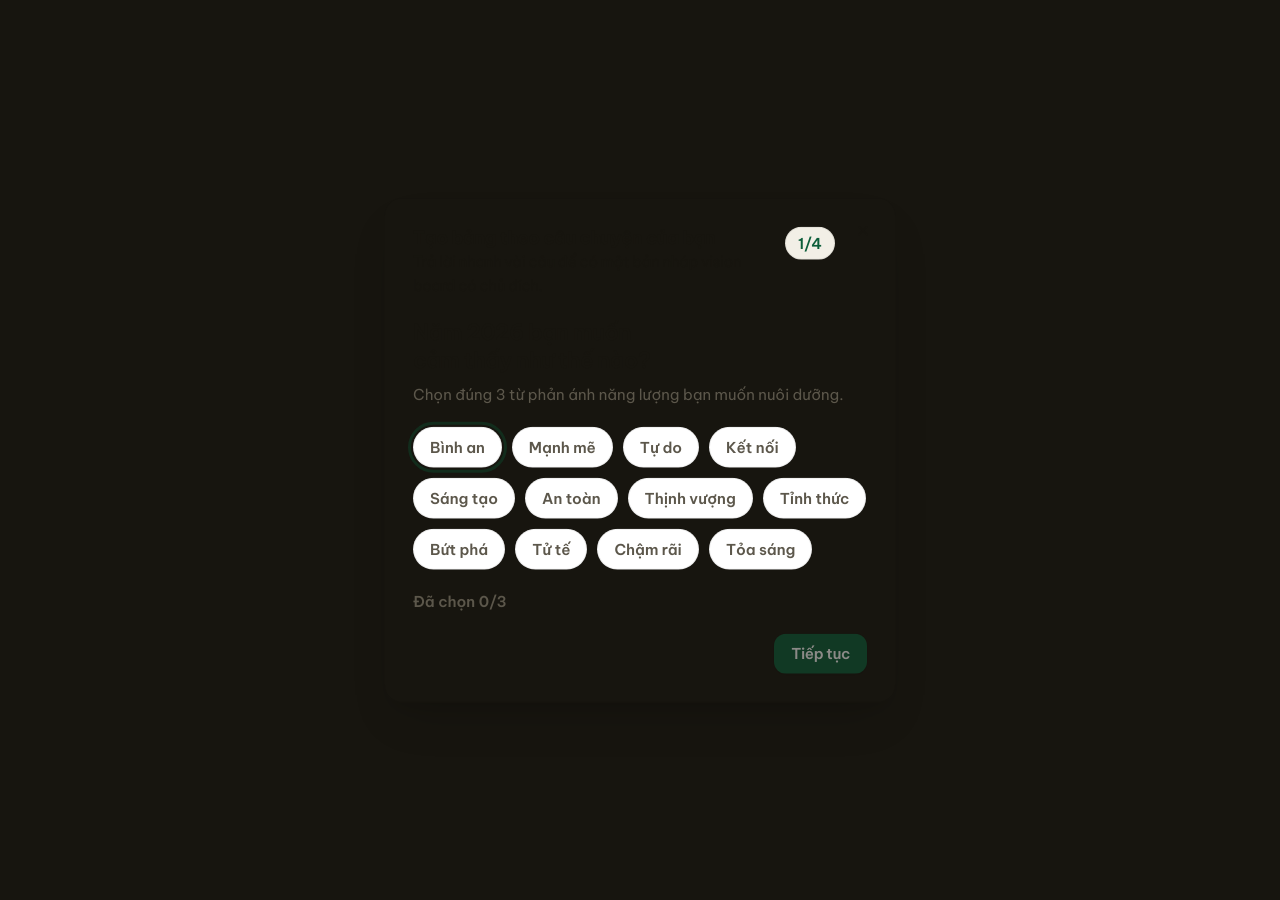
Test case: VisionBoardStoryWizard › starts at step 1 and enables continue only after three feelings
Expected: the text "1/4" is shown, [785,227,835,260]
Expected: the button "Tiếp tục" is disabled, [774,633,867,673]
Step 1. Click the button "Bình an" → (457, 447), box [413,426,502,468]
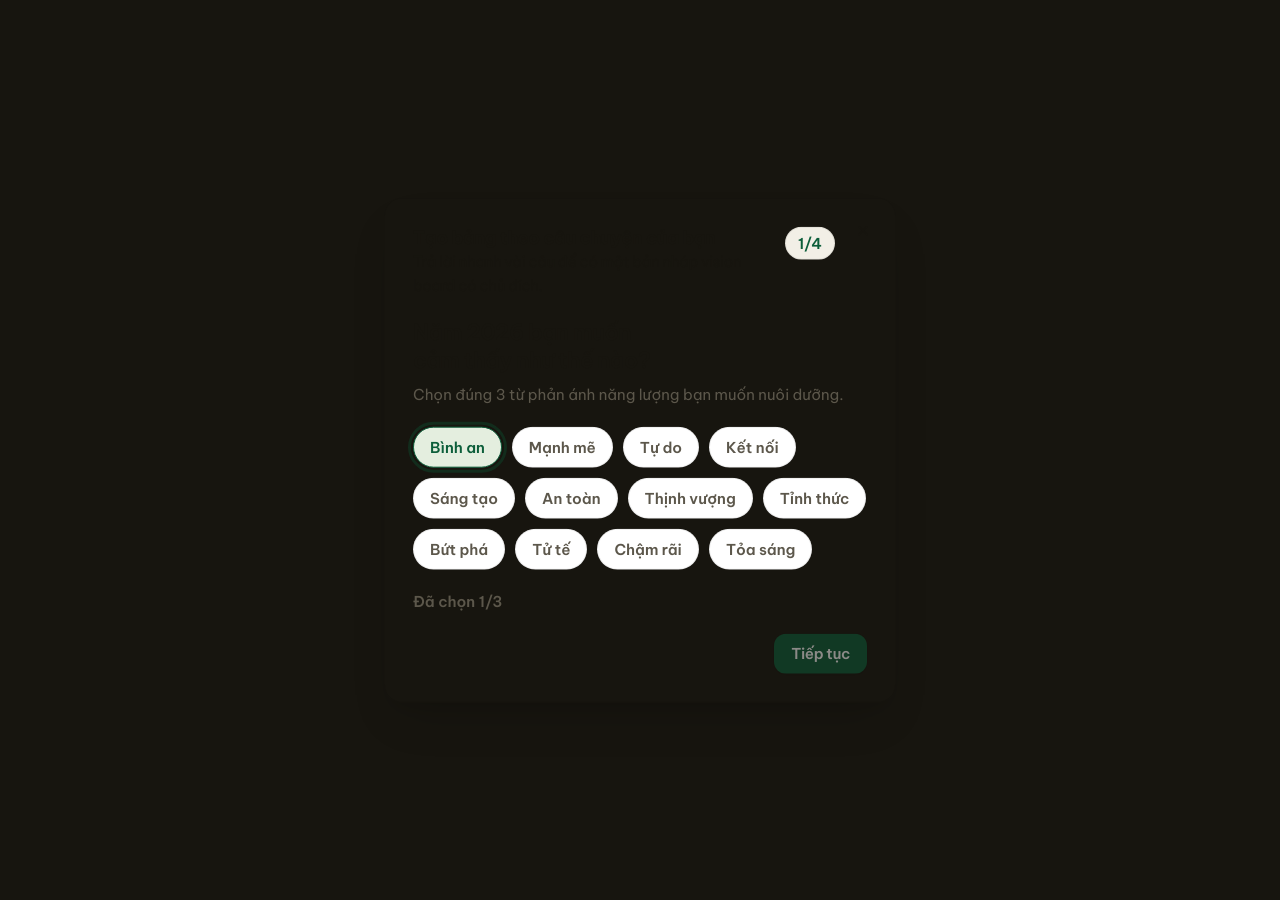
Step 2. Click the button "Mạnh mẽ" → (562, 447), box [512,426,613,468]
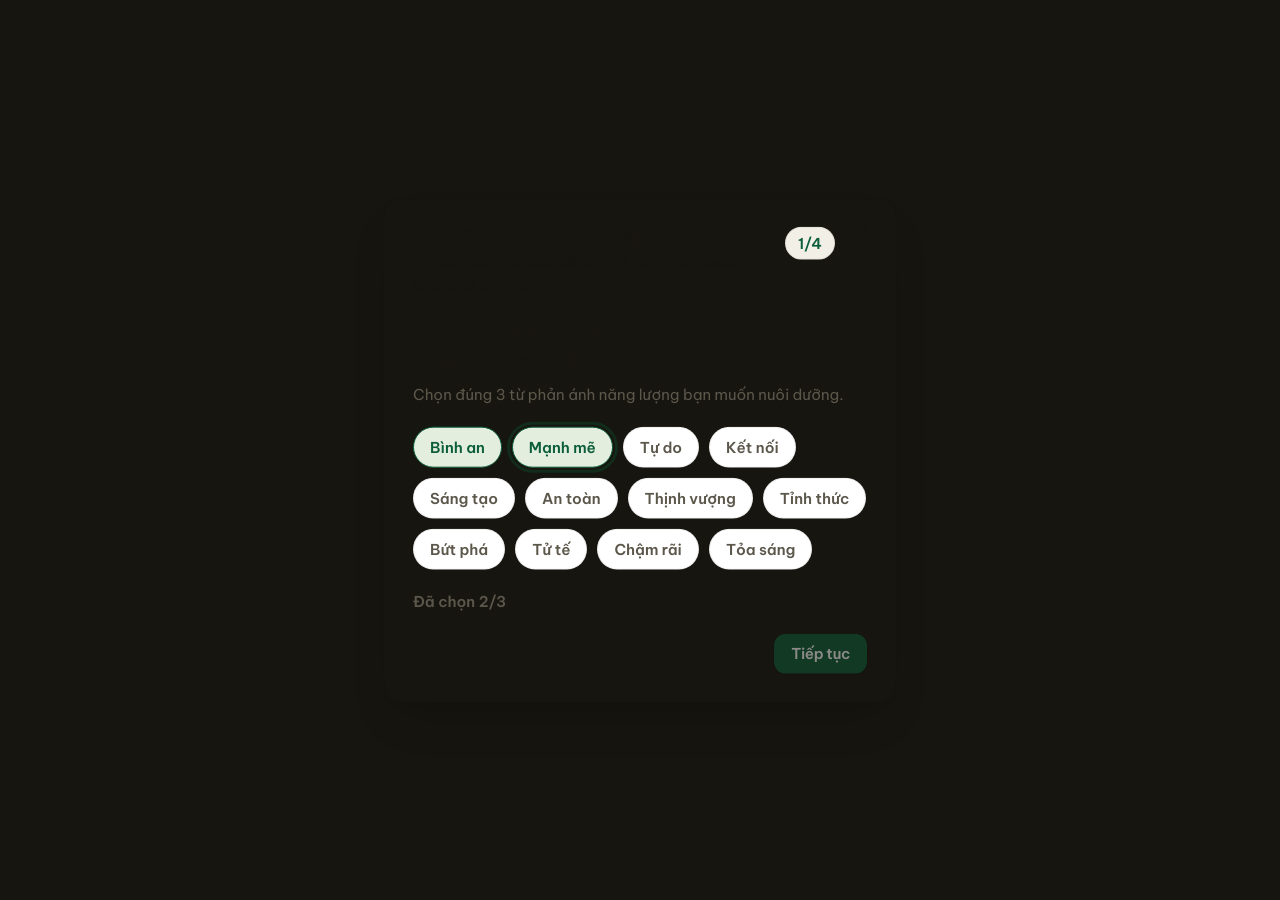
Step 3. Click the button "Tự do" → (661, 447), box [623,426,699,468]
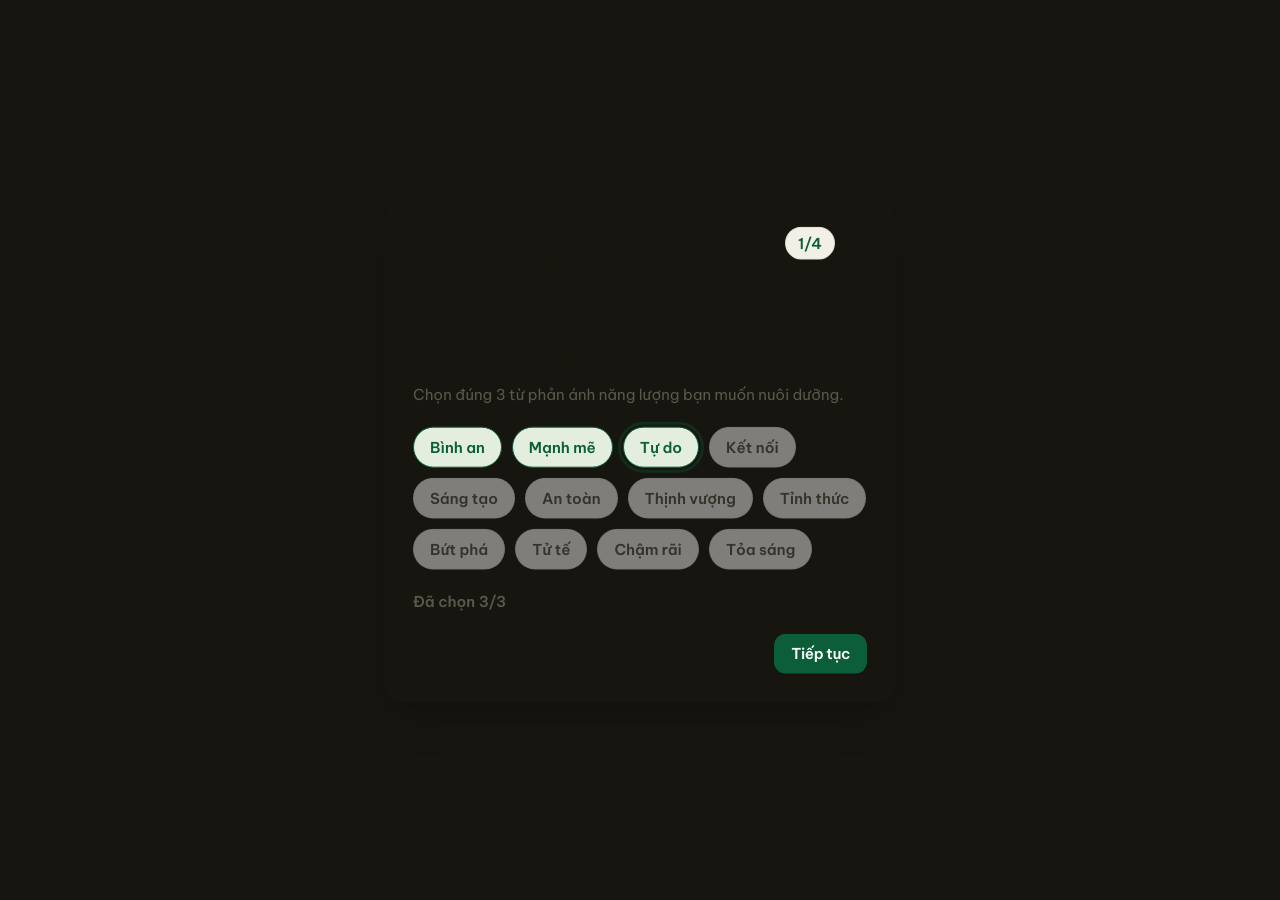
Expected: the text "Đã chọn 3/3" is shown, [413,592,506,611]
Expected: the button "Tiếp tục" is enabled, [774,633,867,673]
